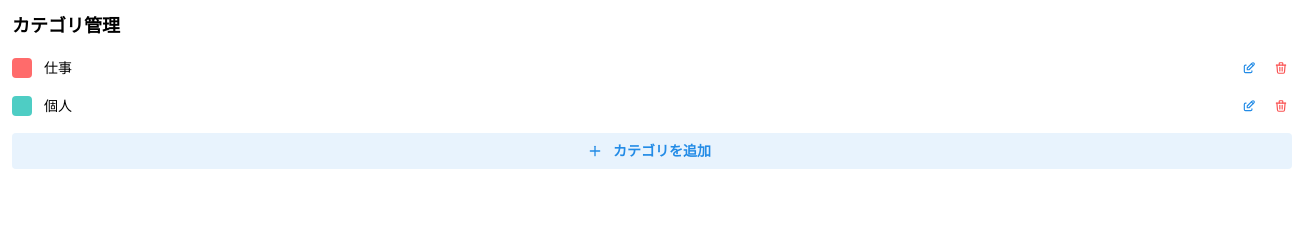
Test case: CategoryList › 新しいカテゴリ追加ボタンをクリックすると追加モードになる
The image size is (1304, 226).
Click the button "カテゴリを追加": coordinates (652, 151) [12,133,1292,169]
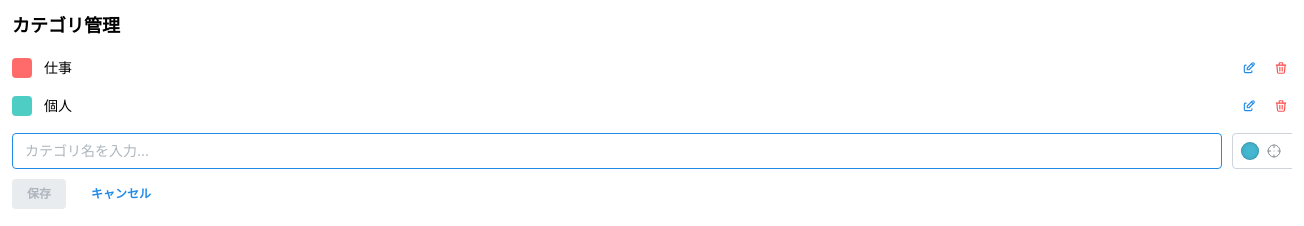
Now the field with placeholder "カテゴリ名を入力..." is shown, box [12,133,1222,169]
Now the button "保存" is shown, box [12,179,66,209]
Now the button "キャンセル" is shown, box [76,179,166,209]
